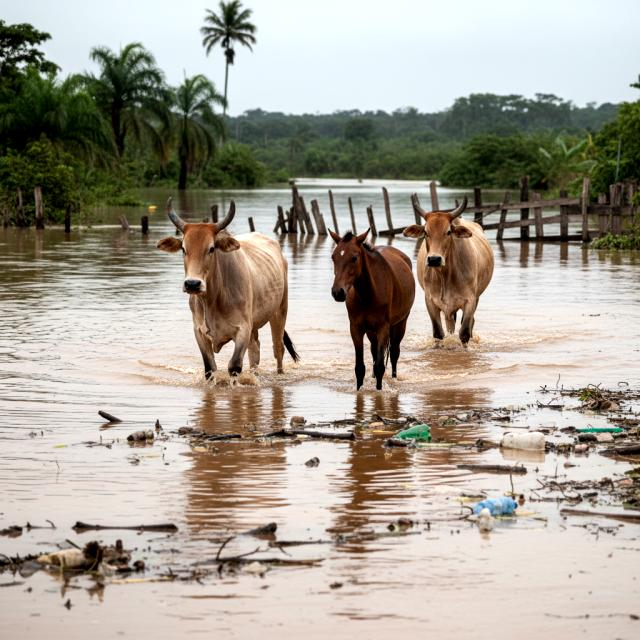cow: (152, 186, 307, 392), (399, 192, 500, 354)
horse: (324, 223, 424, 402)
